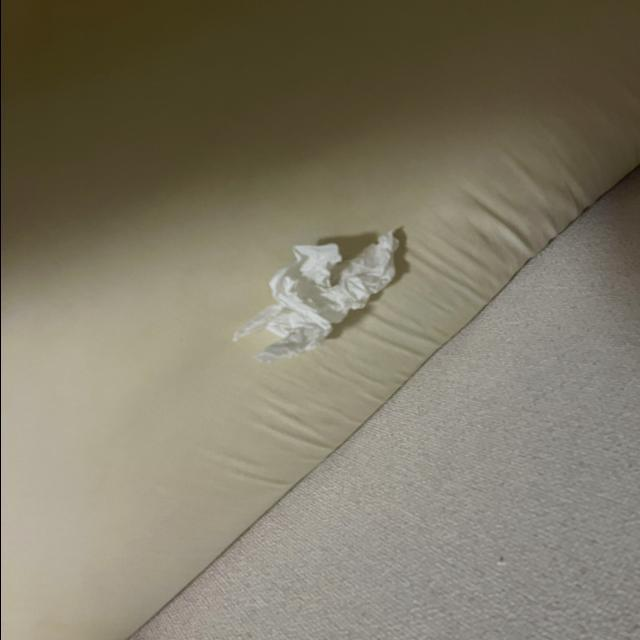Paper: (246, 220, 415, 355)
